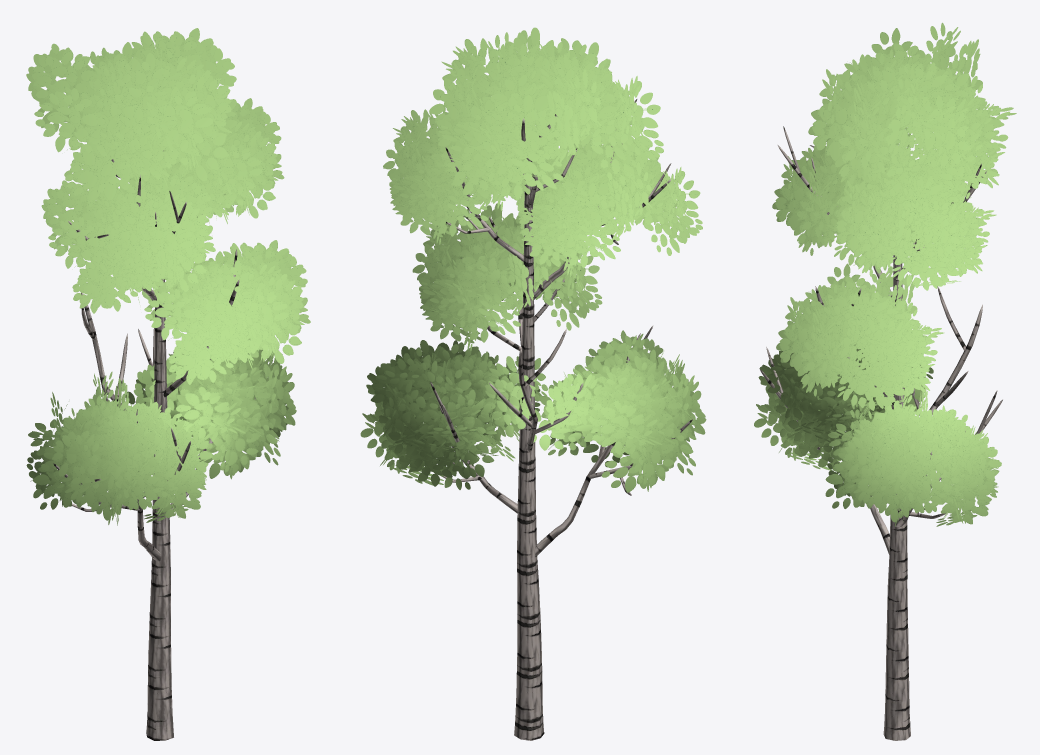
Rendered from BirchTree_2.glb.
3 renders of one model, left to right at view 1: azimuth 30°, elevation 25°; view 2: azimuth 150°, elevation 25°; view 3: azimuth 270°, elevation 25°, orthographic. The views are drawn at different scales.
Parts seen in each view (by area): view 1: BirchTree_2; view 2: BirchTree_2; view 3: BirchTree_2.
Part boxes in pixels (bbox=[...]): BirchTree_2: bbox=[26, 28, 310, 740]; BirchTree_2: bbox=[360, 27, 706, 740]; BirchTree_2: bbox=[754, 22, 1016, 740].
Size of the model in its own units: 3.35 by 7.57 by 2.81.
Materials: 2 (2 with a texture image).
